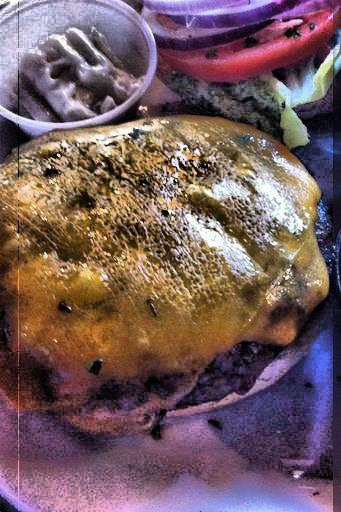burger: (1, 109, 317, 415)
